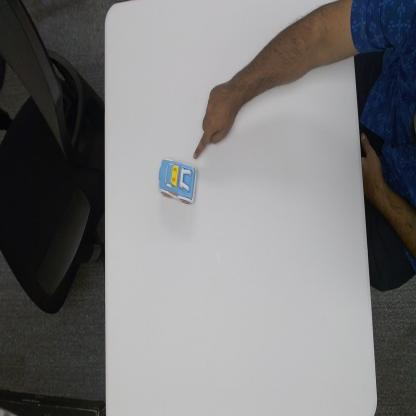Arm: (232, 0, 356, 105)
Car: (157, 156, 198, 208)
Hand: (192, 76, 239, 161)
